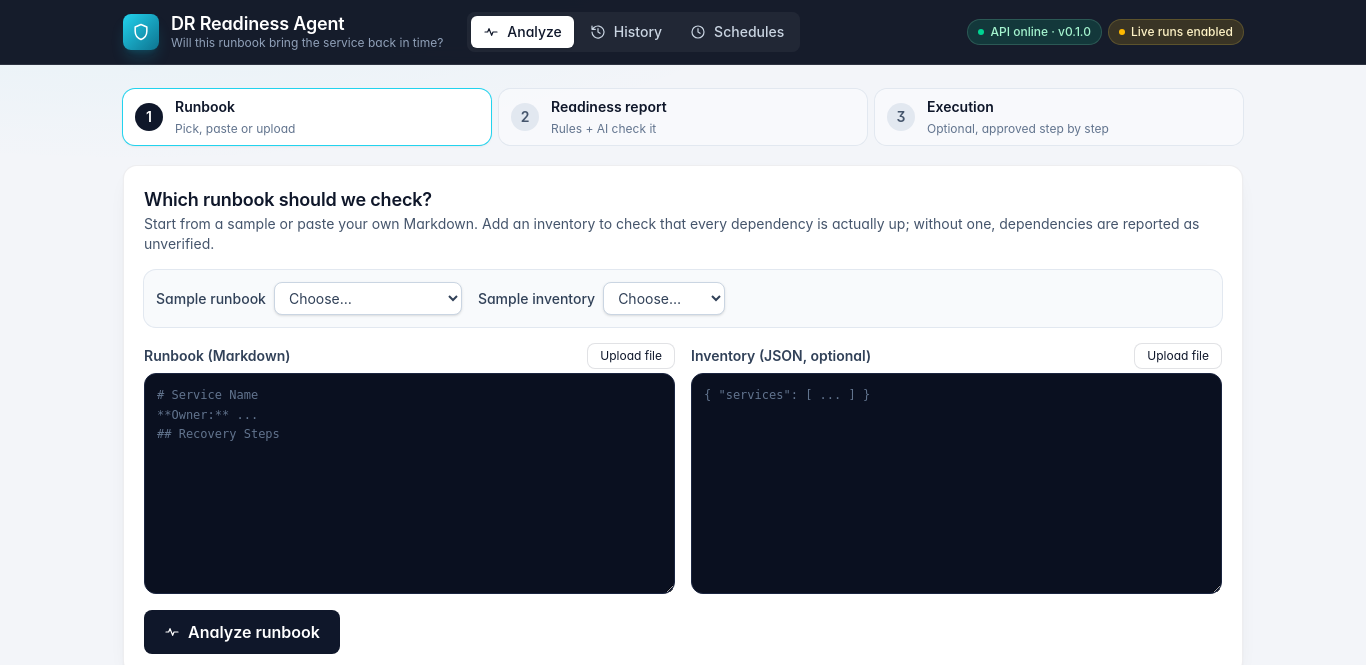
App › switches to the history and back without losing the report
Select "payment-gateway.md" in the dropdown labelled "Sample runbook" at point(368, 298), box [274,282,462,315]
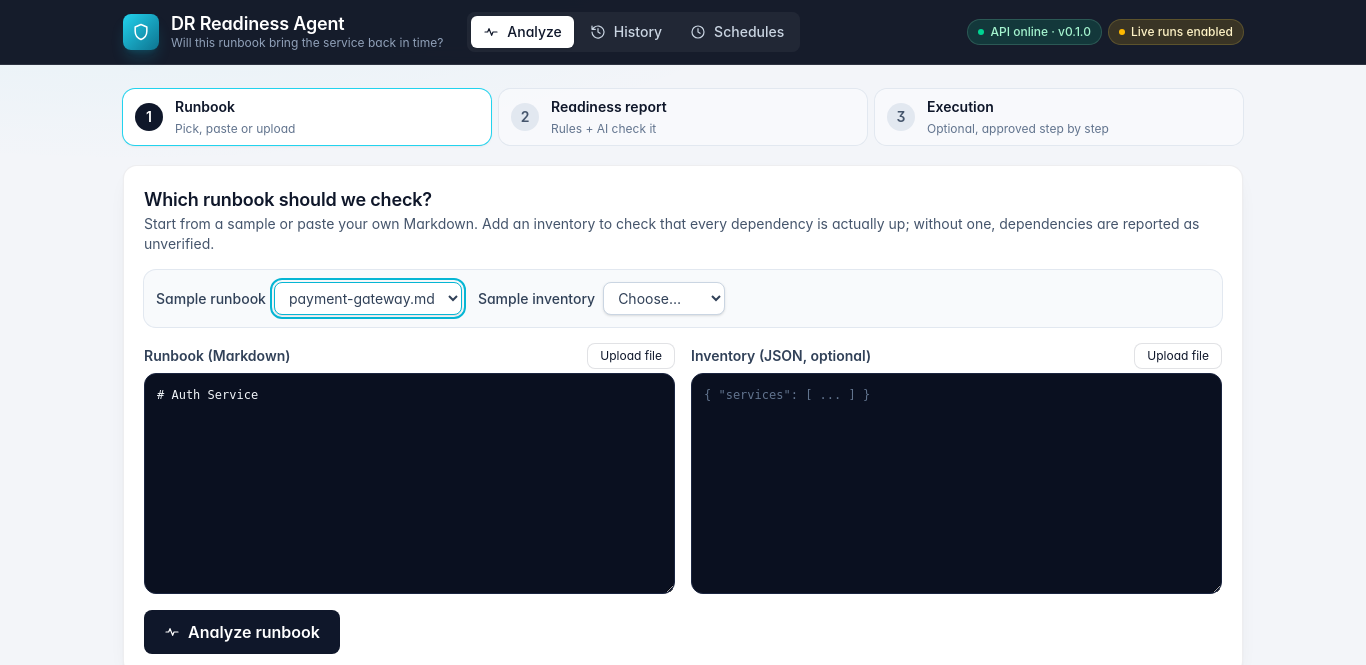
Click the button "Analyze runbook" at point(242, 632), box [144,610,340,654]
(page scrolled)
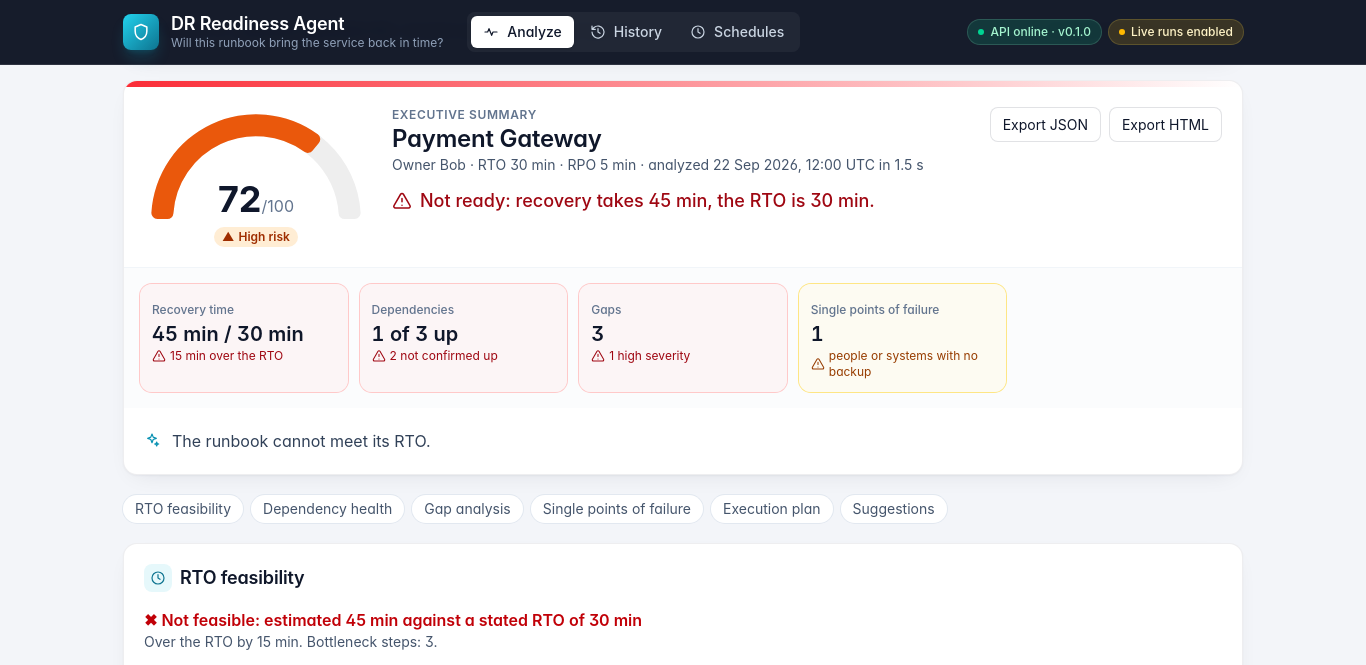
Click the button "History" at point(626, 32), box [578,16,674,48]
(page scrolled)
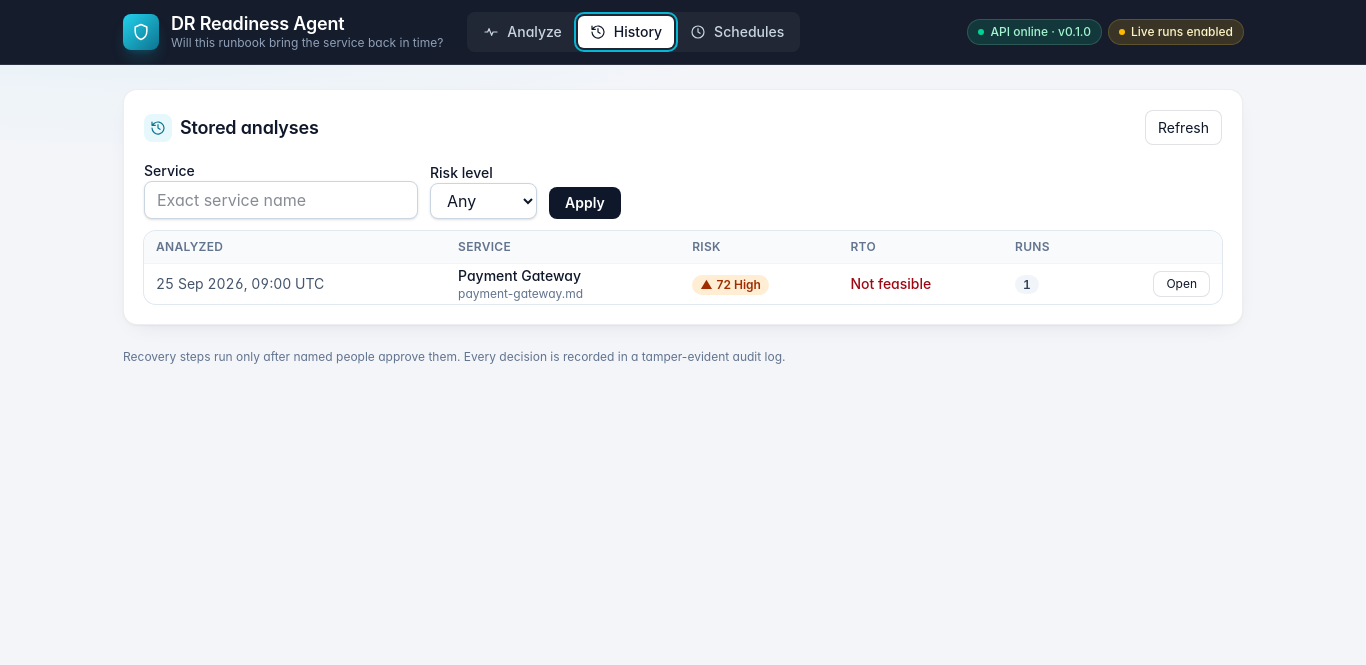
Expected: the heading "Stored analyses" is shown, [144,114,319,142]
Click the button "Analyze" at point(523, 32), box [471,16,574,48]
(page scrolled)
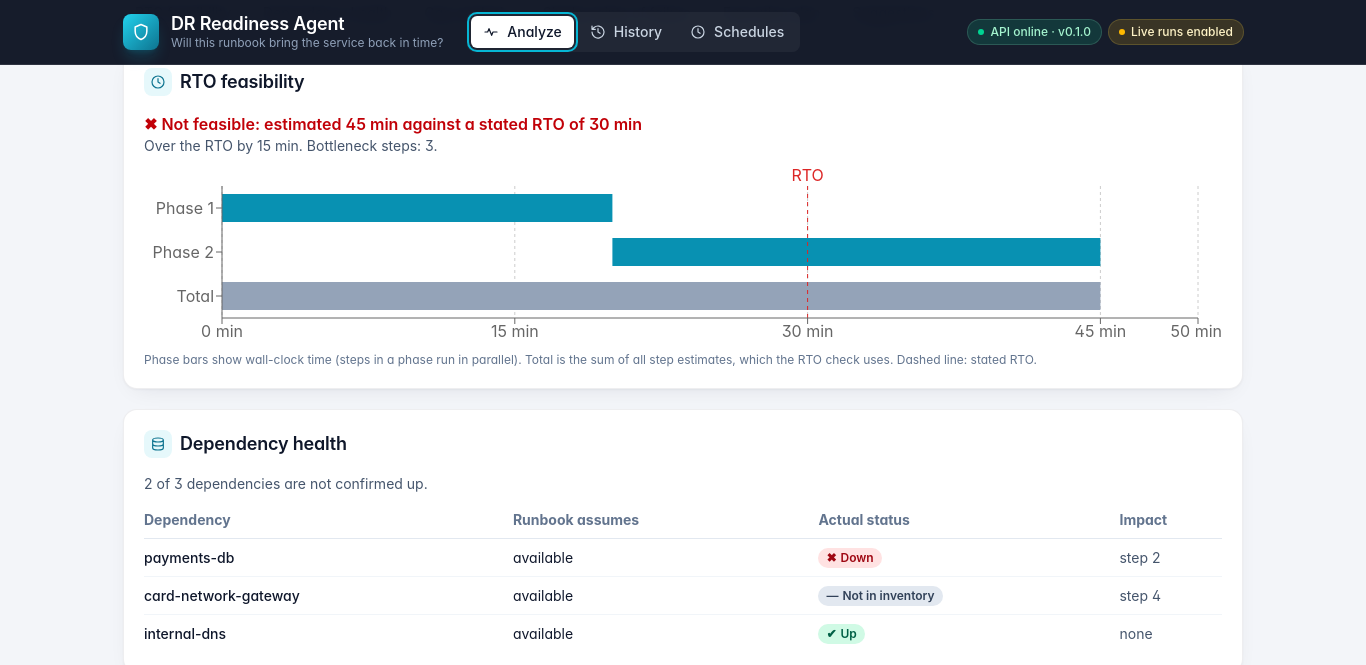
Expected: the heading "Stored analyses" is gone
